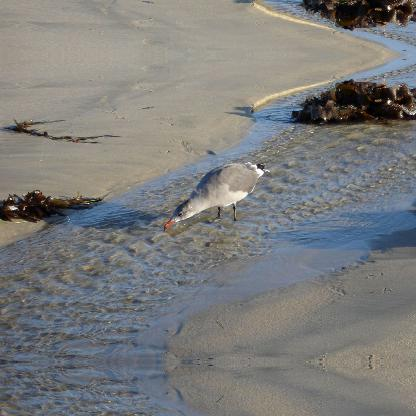Bird: (163, 152, 275, 220)
